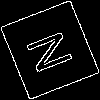N: (25, 25, 83, 76)
